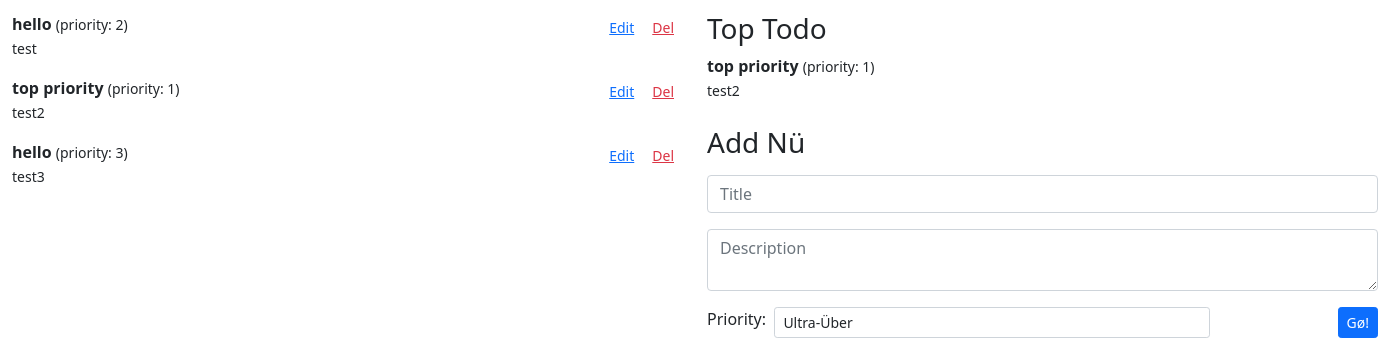
Test: TodoApp › updates a new todo
Click the 1st button with class "EditableTodo-toggle" at (622, 28), box [600,12,643,43]
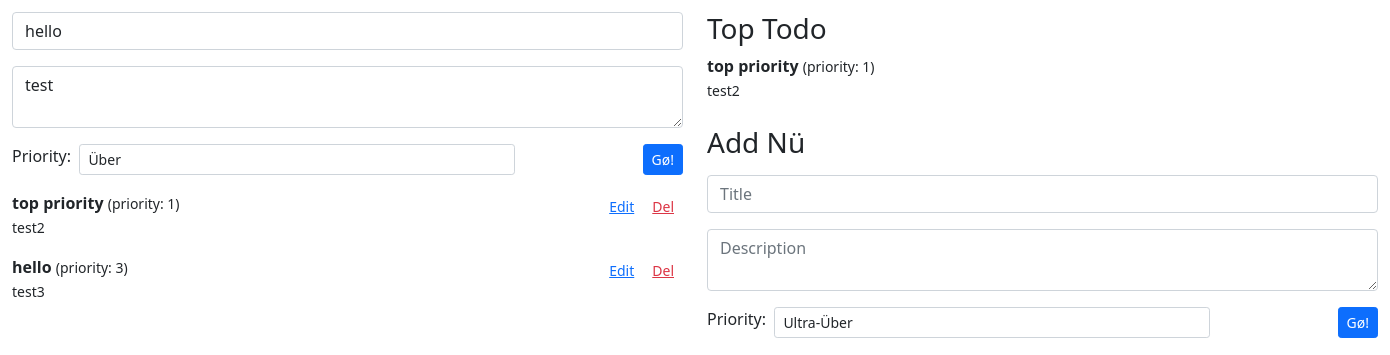
Replace the text in the field named "title" with "This is updated" at (348, 31), box [12,12,683,50]
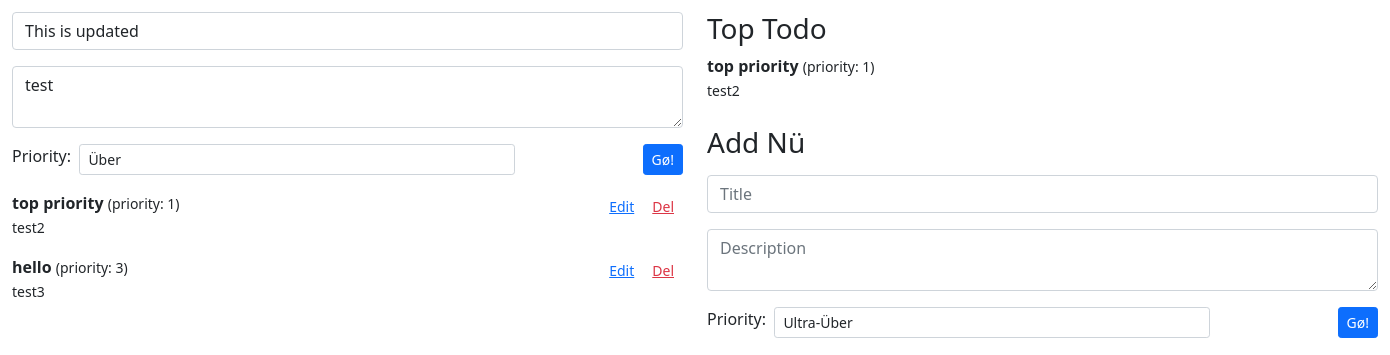
Replace the text in the text box named "description" with "updating" at (348, 97), box [12,66,683,128]
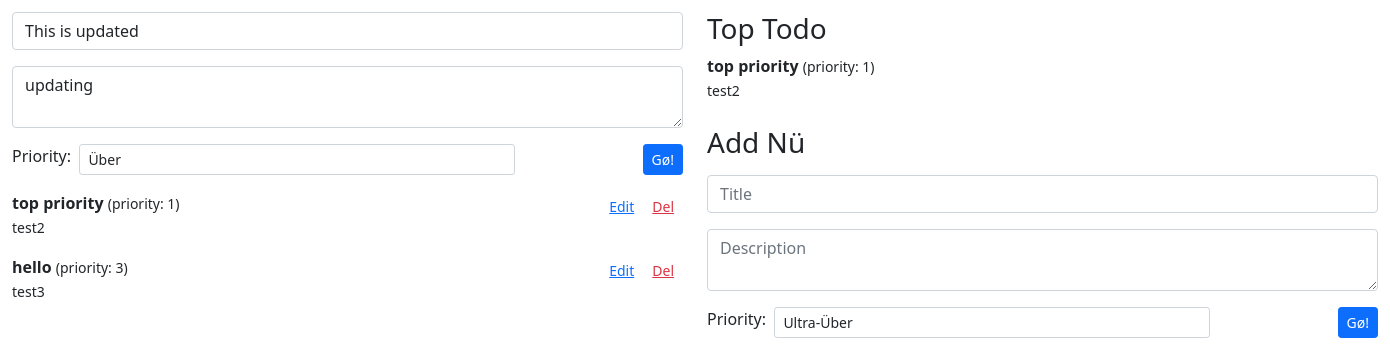
Select "Über" in the dropdown named "priority" at (297, 160), box [79,144,515,175]
Click the 1st button with class "NewTodoForm-addBtn" at (663, 160), box [643,144,683,175]
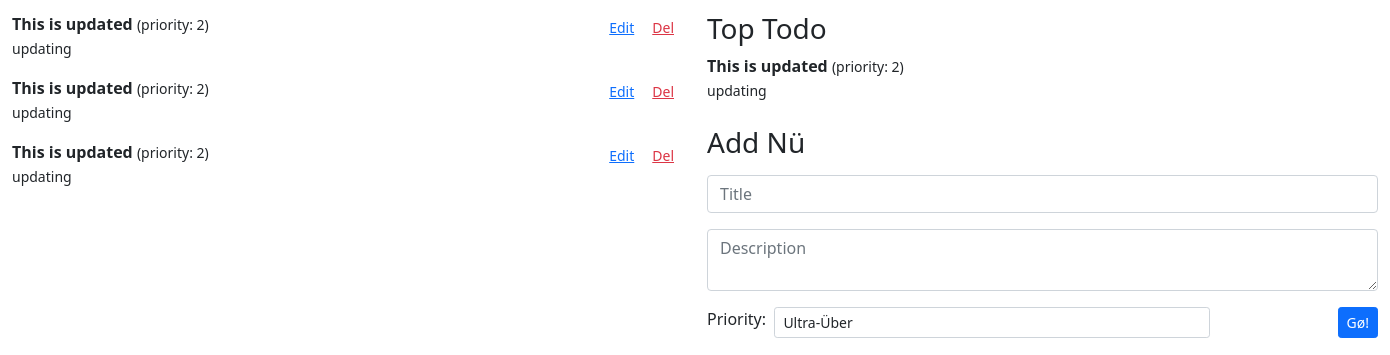
expect the element with class "col-md-6" shows "This is updated": met, box [12,13,133,35]
